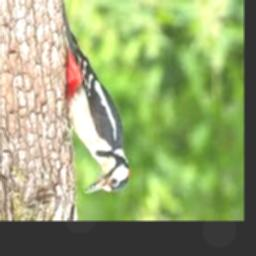Woodpecker: (61, 0, 130, 193)
